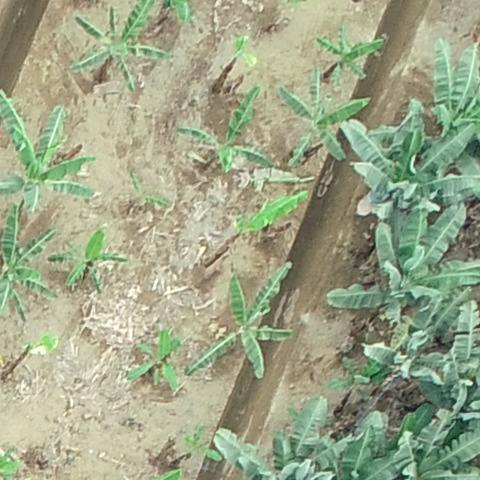Banana-plant: (324, 203, 480, 325), (338, 92, 474, 221), (365, 296, 480, 420), (182, 258, 296, 383), (0, 88, 94, 218), (419, 35, 480, 206), (273, 65, 370, 171), (178, 77, 275, 180), (65, 0, 170, 93), (0, 207, 59, 328), (44, 224, 129, 296), (311, 17, 382, 92), (124, 323, 187, 396)
